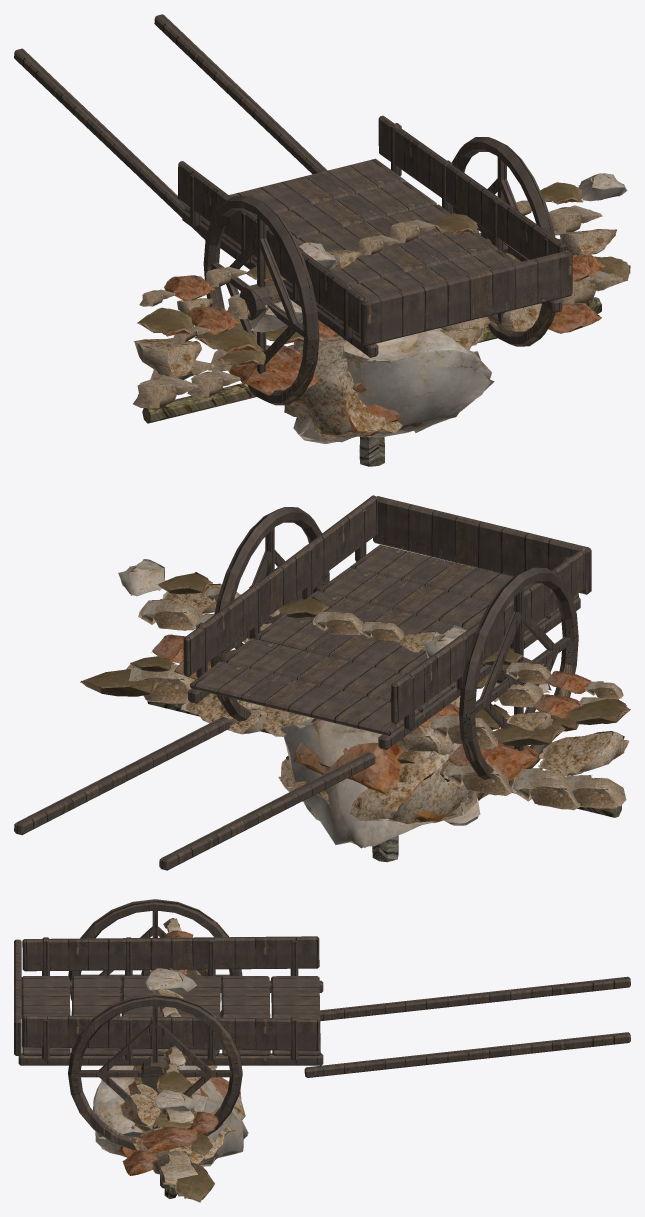
Rendered from road-props.glb.
3 renders of one model, top to bottom at view 1: azimuth 30°, elevation 25°; view 2: azimuth 150°, elevation 25°; view 3: azimuth 270°, elevation 25°, orthographic. The views are drawn at different scales.
Parts seen in each view (by area): view 1: cart, wall, rk4, rk2, frail, fpost; view 2: cart, wall, rk4, rk2, rk0, bd1, frail, rk1, fpost; view 3: cart, wall, rk4, rk2, rk0.
Part boxes in pixels (x1,y1,x2,y2): cart: (14,14,572,405); wall: (133,173,630,408); rk4: (293,328,494,443); rk2: (287,338,403,440); frail: (142,297,601,423); fpost: (359,436,384,466); cart: (14,495,591,870); wall: (80,559,630,810); rk4: (281,701,480,848); rk2: (278,697,488,823); rk0: (293,718,459,821); bd1: (292,727,474,818); frail: (147,701,621,817); rk1: (290,728,477,822); fpost: (372,835,398,862); cart: (14,899,630,1150); wall: (119,918,218,1202); rk4: (93,1065,248,1166); rk2: (199,1090,245,1164); rk0: (119,1077,228,1157).
Size of the model in its own units: 3.06 by 1.69 by 3.95.
Materials: 3 (3 with a texture image).
